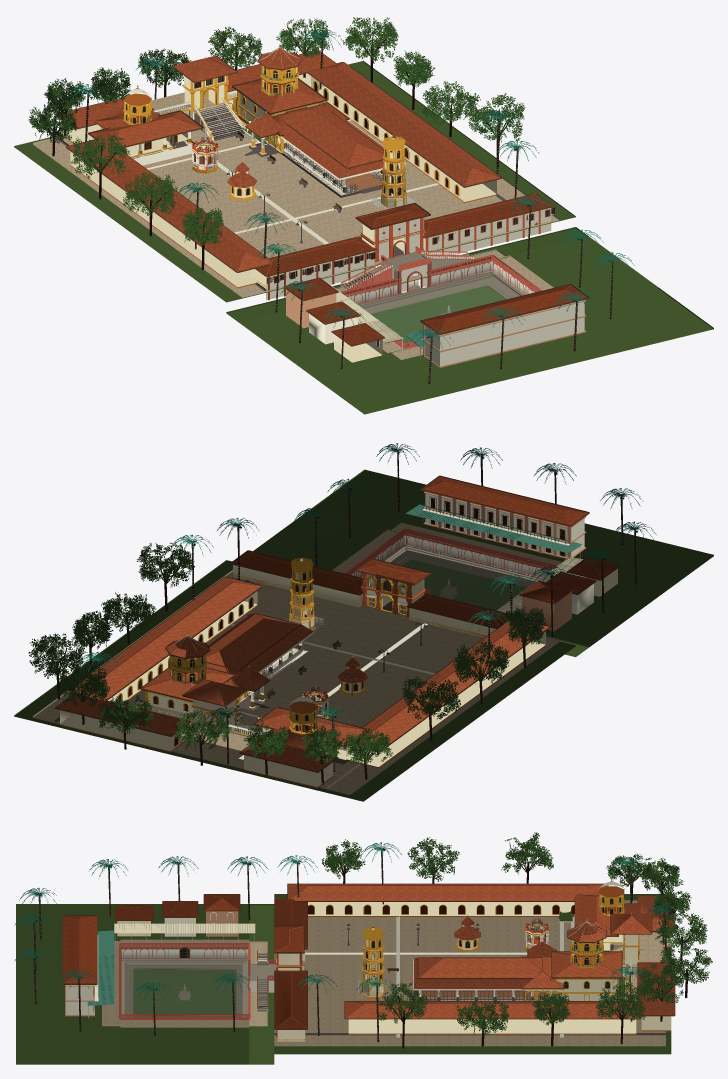
File: Shri-Kamakshi-Temple-Shiroda.glb
The picture shows the model from 3 angles, top to bottom: view 1: azimuth 30°, elevation 25°; view 2: azimuth 150°, elevation 25°; view 3: azimuth 270°, elevation 25°; orthographic projection. The views are drawn at different scales.
Visible parts, largest first — view 1: Garden ground (×2), Mangalore terracotta tiles (×5), Courtyard paving (×3), Tropical foliage, Ivory columns and fascia (×6), Weathered rear wing tiles (×2), Cream lime plaster (×2), Green iron balcony railings, Golden ochre architectural trim (×4), Aged dark teak roof structure (×3), Lake parapet faded red paint (×2), Weathered granite tank steps (×2) (+8 smaller); view 2: Garden ground (×2), Courtyard paving (×3), Mangalore terracotta tiles (×5), Tropical foliage, Cream lime plaster (×3), Weathered rear wing tiles (×2), Green iron balcony railings, Ivory columns and fascia (×3), Aged dark teak roof structure (×3), Lakeside peach plaster, Tree bark, Golden ochre architectural trim (×3) (+11 smaller); view 3: Garden ground (×2), Courtyard paving (×3), Mangalore terracotta tiles (×5), Tropical foliage, Cream lime plaster (×5), Weathered rear wing tiles (×2), Temple tank water, Green iron balcony railings, Weathered granite tank steps (×2), Golden ochre architectural trim (×4), Ivory columns and fascia (×3), Tree bark (+12 smaller).
Boxes of the visible parts, x1,y1,x2,y2 form: Garden ground (×2): (14, 61, 713, 414); Mangalore terracotta tiles (×5): (57, 48, 500, 271); Courtyard paving (×3): (33, 65, 585, 359); Tropical foliage: (28, 17, 525, 245); Ivory columns and fascia (×6): (133, 76, 584, 366); Weathered rear wing tiles (×2): (256, 194, 588, 345); Cream lime plaster (×2): (60, 73, 496, 362); Green iron balcony railings: (67, 29, 634, 350); Golden ochre architectural trim (×4): (125, 65, 459, 209); Aged dark teak roof structure (×3): (55, 51, 589, 346); Lake parapet faded red paint (×2): (341, 224, 541, 349); Weathered granite tank steps (×2): (341, 252, 523, 315); Garden ground (×2): (14, 469, 713, 801); Courtyard paving (×3): (33, 522, 562, 794); Mangalore terracotta tiles (×5): (56, 577, 549, 771); Tropical foliage: (28, 542, 546, 764); Cream lime plaster (×3): (60, 565, 545, 787); Weathered rear wing tiles (×2): (231, 476, 619, 628); Green iron balcony railings: (78, 443, 656, 729); Ivory columns and fascia (×3): (207, 491, 593, 759); Aged dark teak roof structure (×3): (55, 475, 620, 772); Lakeside peach plaster: (423, 491, 586, 631); Tree bark: (44, 452, 637, 784); Golden ochre architectural trim (×3): (109, 557, 366, 746); Garden ground (×2): (16, 894, 671, 1064); Courtyard paving (×3): (102, 900, 665, 1046); Mangalore terracotta tiles (×5): (288, 884, 674, 1018); Tropical foliage: (321, 832, 712, 1034); Cream lime plaster (×5): (277, 902, 671, 1041); Weathered rear wing tiles (×2): (63, 894, 307, 1029); Temple tank water: (133, 969, 236, 1017); Green iron balcony railings: (14, 842, 684, 1003); Weathered granite tank steps (×2): (121, 953, 278, 1017); Golden ochre architectural trim (×4): (308, 894, 664, 1000); Ivory columns and fascia (×3): (66, 912, 563, 1037); Tree bark: (33, 848, 698, 1048).
Size of the model in its own units: 83.3 by 23.29 by 141.
35 materials, 25 textured.
